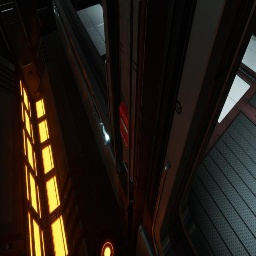FireAlarm ,: (120, 101, 133, 149)
